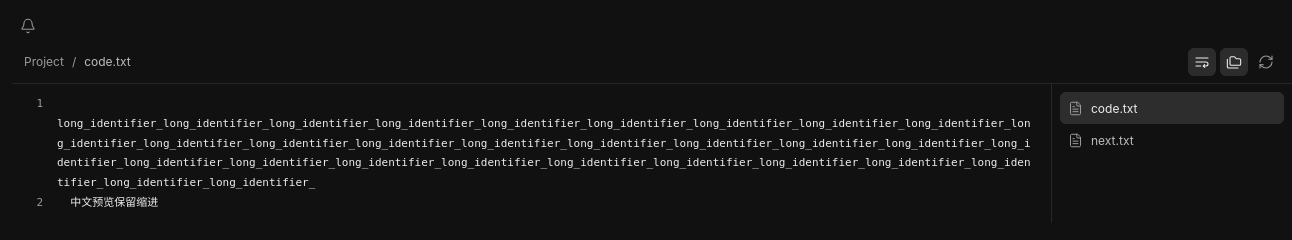
Test: wraps files by default without changing their text or rereading on toggle
Click the button named "自动换行" at (1202, 62), box [1188,48,1216,76]
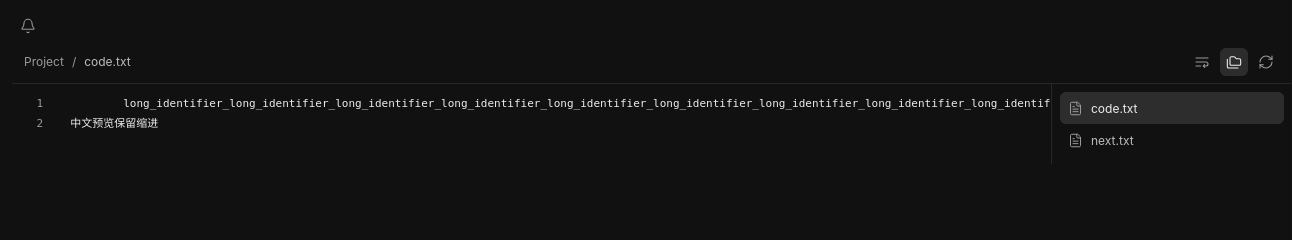
Now the button named "自动换行" is not pressed, box [1188,48,1216,76]
Click the button "next.txt" at (1172, 140), box [1060,124,1284,156]
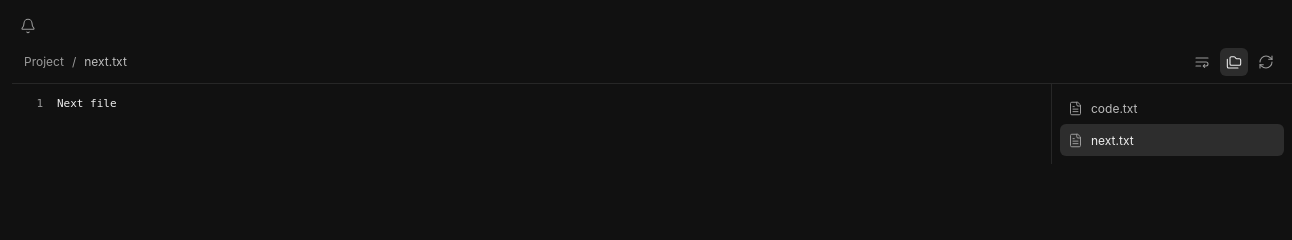
Now the text "Next file" is shown, box [57,97,117,110]
